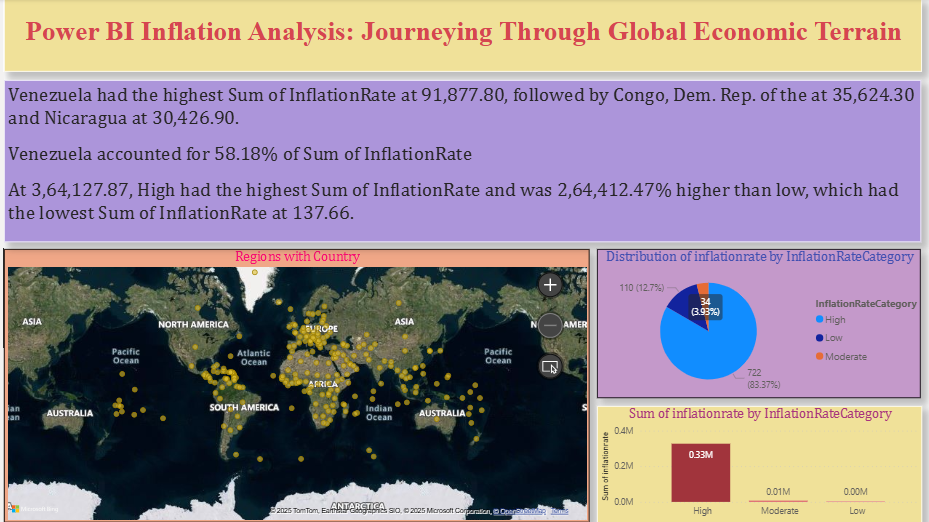

What the dashboard file says about the page in this screenshot:
{"tool":"powerbi","page":{"name":"Page 2","canvas":[1280,720],"ordinal":1},"visuals":[{"type":"map","title":"Regions with Country","fields":{"Category":["all.country","all.region"]},"box":[0,344,805.3,376],"z":0},{"type":"textbox","box":[0,0,1262.1,100.4],"z":1000},{"type":"textbox","box":[0,112,1261.3,222.7],"z":2000},{"type":"pieChart","title":"Distribution of inflationrate by InflationRateCategory","fields":{"Category":["global_inflation_data.InflationRateCategory"],"Y":["Count(global_inflation_data.inflationrate)"]},"box":[815.3,343.7,445.5,204.9],"z":3000},{"type":"columnChart","fields":{"Y":["Sum(global_inflation_data.inflationrate)"],"Category":["global_inflation_data.InflationRateCategory"]},"box":[815.3,559.6,446.8,160.9],"z":4000}]}

Visuals, with their boxes in screenshot pixels (x1, y1, x2, y2), scaled from the page's 1280x720 canvas onto the 929x522 screenshot:
"Regions with Country" map: left=0, top=249, right=584, bottom=521
textbox: left=0, top=0, right=916, bottom=73
textbox: left=0, top=81, right=915, bottom=243
"Distribution of inflationrate by InflationRateCategory" pieChart: left=592, top=249, right=915, bottom=398
columnChart - Sum(global_inflation_data.inflationrate) x global_inflation_data.InflationRateCategory: left=592, top=406, right=916, bottom=521
